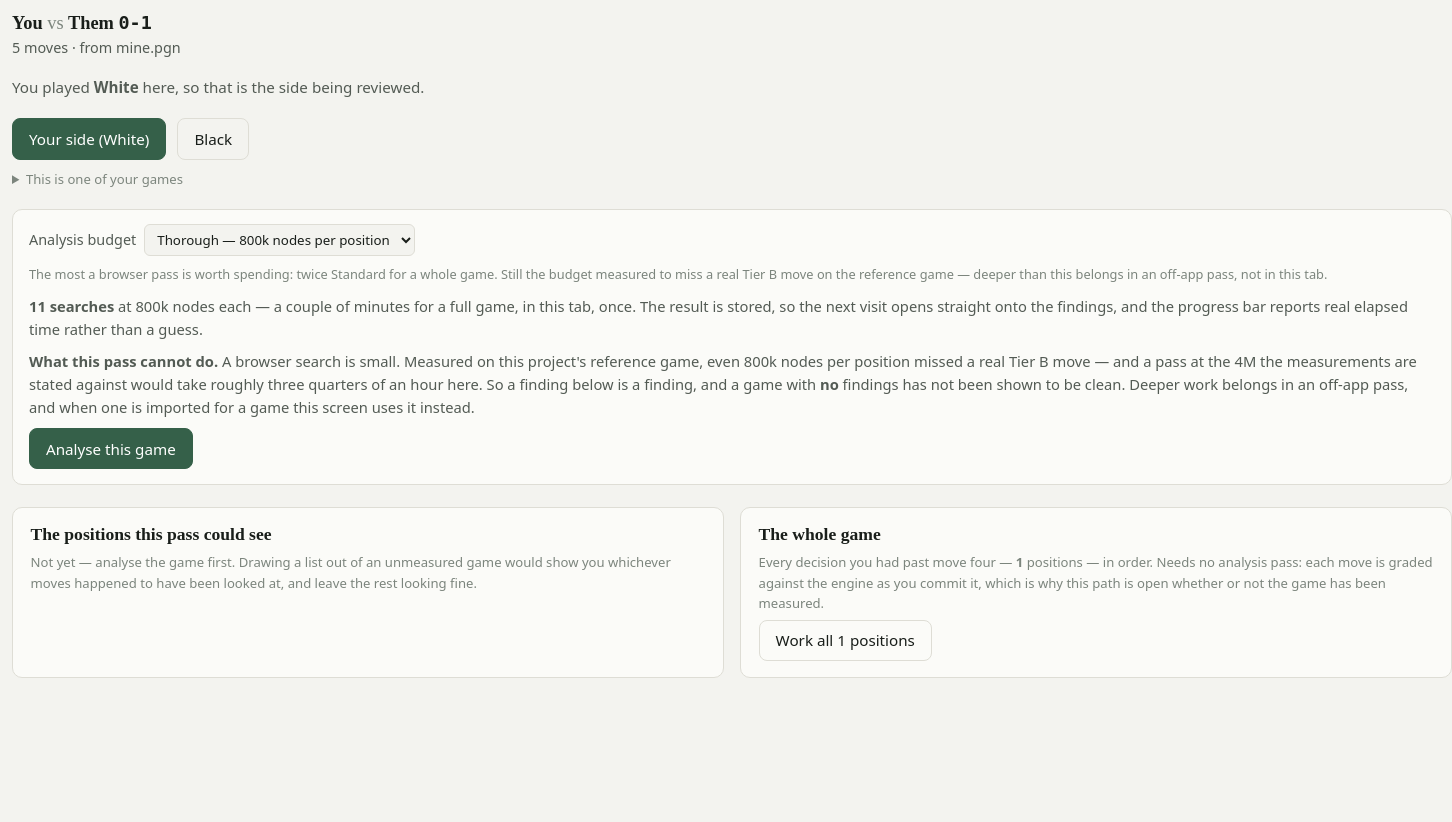
Test: after a complete pass › says the same at the deepest budget the browser offers
This screenshot has width=1452, height=822.
Step 1. Click the button "Analyse this game" → (111, 449), box [29,428,193,469]
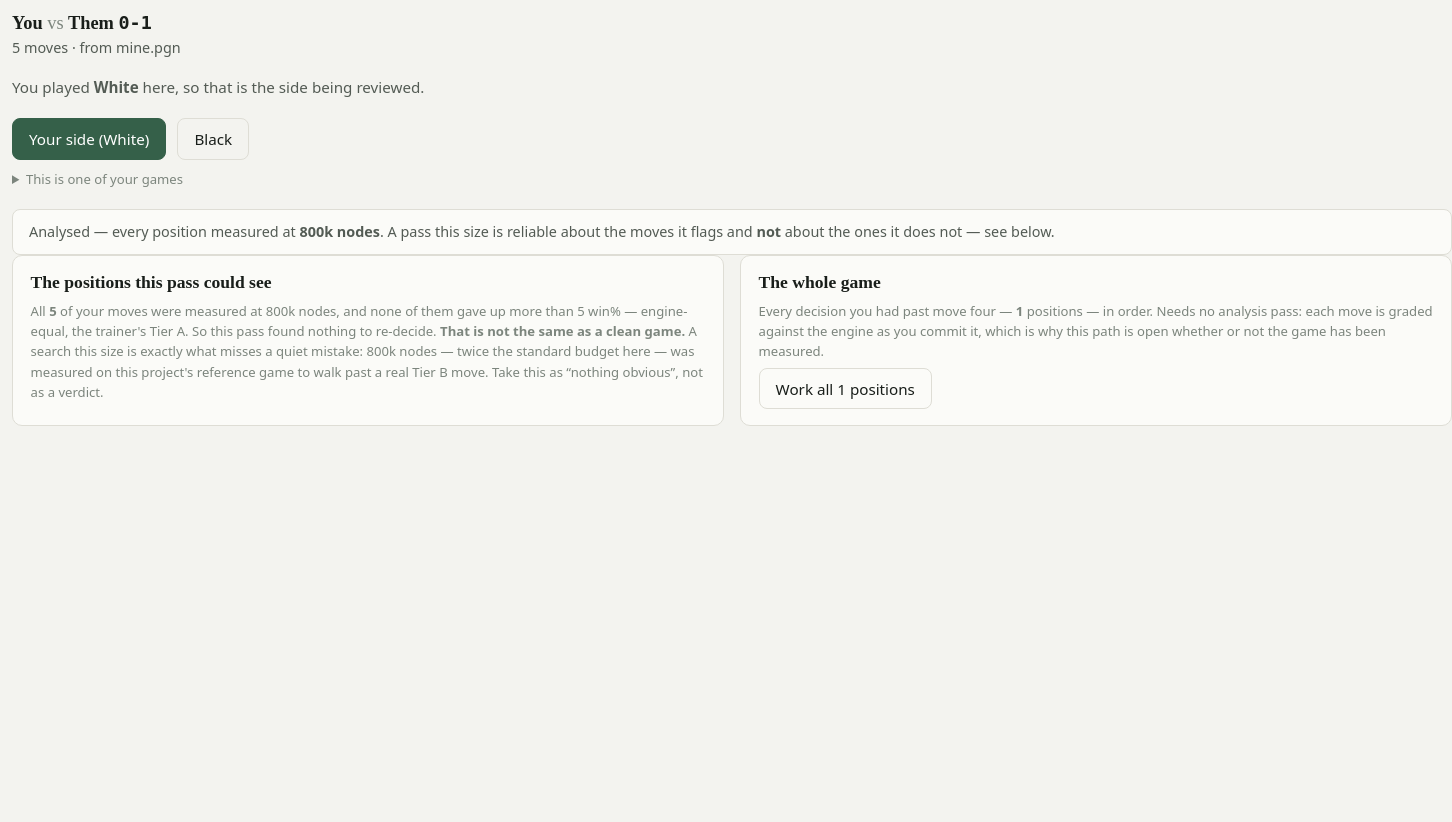
Result: the text "of your moves were measured at" is shown at [57,302,266,320]
Result: the text "That is not the same as a clean game." is shown at [440,322,685,340]
